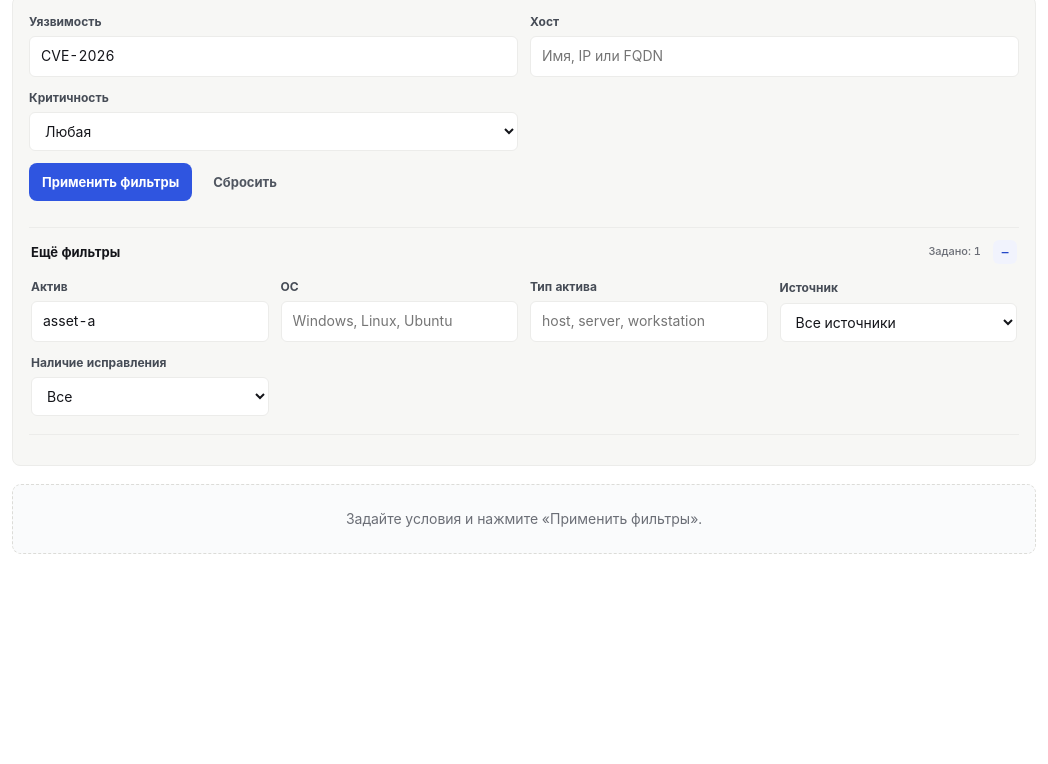
applied vulnerability selection › prefills deep links without fetching the selection before apply
Expected: the field labelled "Актив" holds "asset-a", [31, 302, 268, 342]
Expected: the field labelled "Уязвимость" holds "CVE-2026", [29, 36, 518, 77]
Click the button "Применить фильтры" at (111, 182), box [29, 163, 192, 201]
(page scrolled)
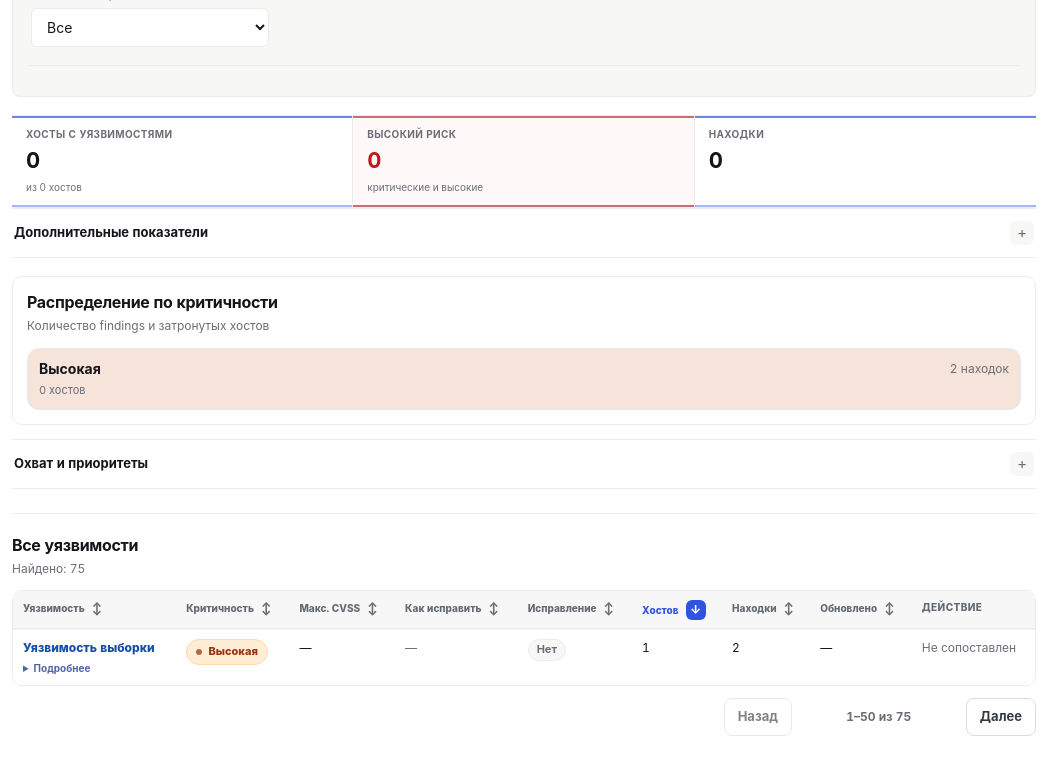
Expected: the heading "Все уязвимости" is shown, [12, 534, 138, 557]
